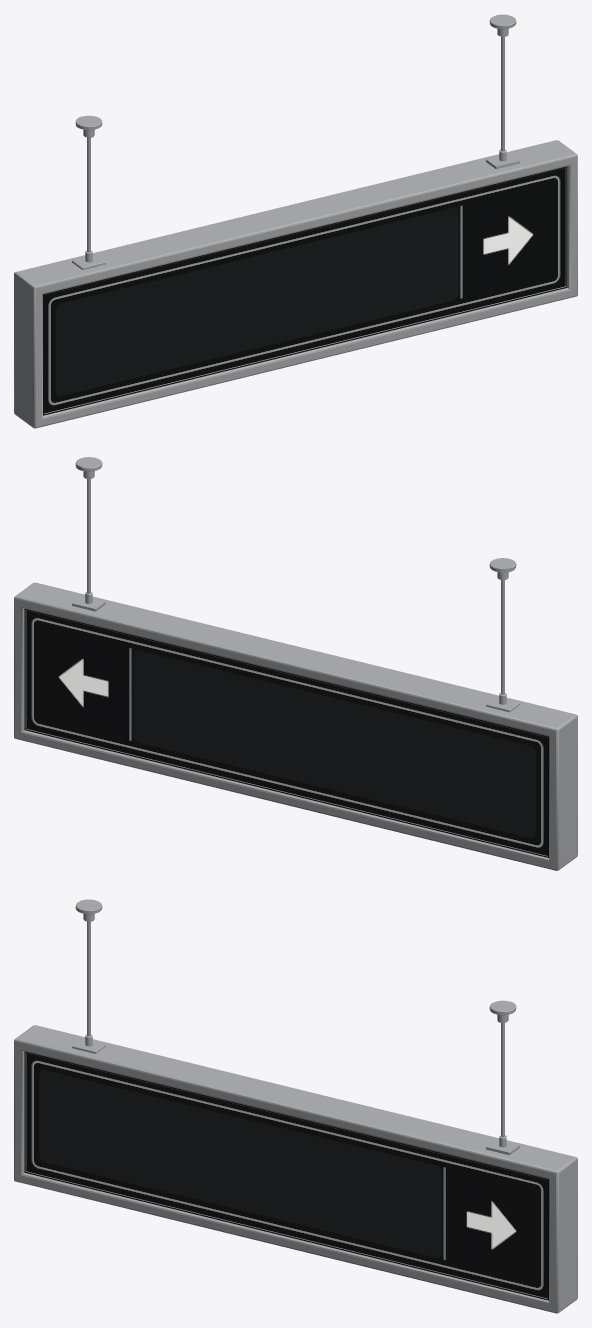
File: gteki_sign_hanging_black_right.glb
3 renders of one model, top to bottom at view 1: azimuth 30°, elevation 25°; view 2: azimuth 150°, elevation 25°; view 3: azimuth 330°, elevation 25°, orthographic.
Visible parts, largest first — view 1: VIS_faces, VIS_frame, VIS_mount; view 2: VIS_faces, VIS_frame, VIS_mount; view 3: VIS_faces, VIS_frame, VIS_mount.
Boxes of the visible parts, x1,y1,x2,y2 form: VIS_faces: (44,168,565,412); VIS_frame: (14,140,577,428); VIS_mount: (72,14,519,269); VIS_faces: (26,610,547,855); VIS_frame: (14,582,577,870); VIS_mount: (72,457,519,712); VIS_faces: (26,1053,547,1297); VIS_frame: (14,1025,577,1313); VIS_mount: (72,899,519,1155).
Size of the model in its own units: 1.8 by 0.9 by 0.12.
Materials: 4 (2 with a texture image).
